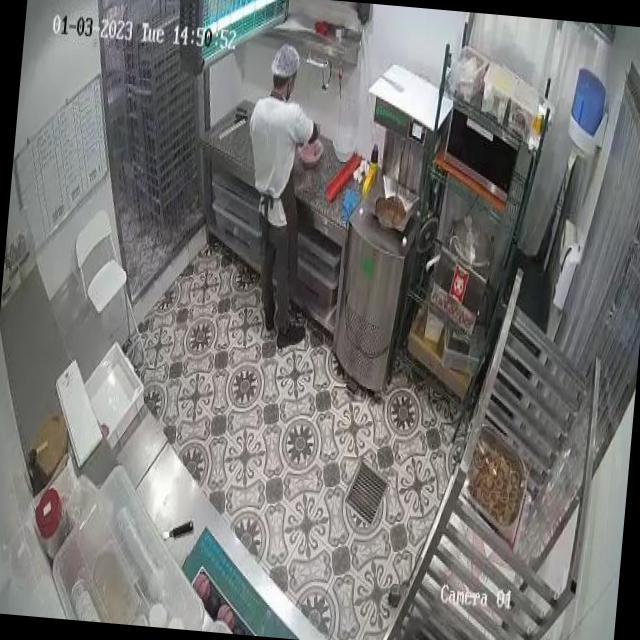hairnet: (272, 44, 301, 78)
